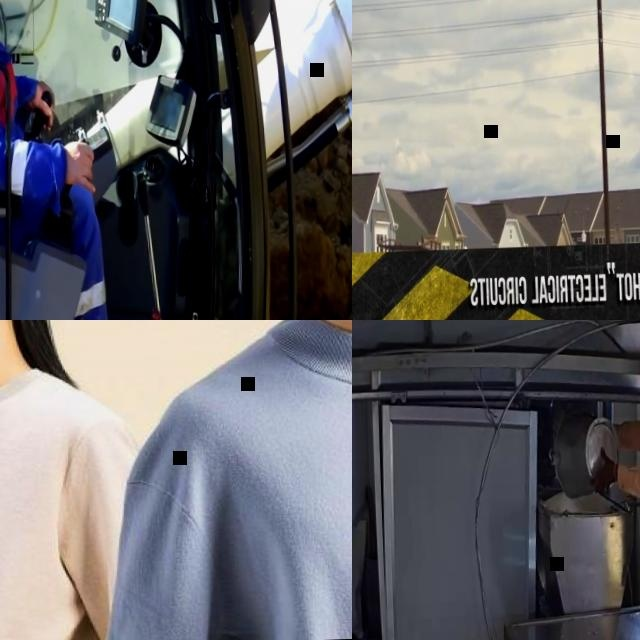NO-Safety Vest: (213, 329, 352, 640), (0, 381, 99, 640)
Person: (84, 320, 352, 640), (0, 320, 151, 640), (0, 0, 111, 320), (585, 320, 640, 640)
Safety Vest: (0, 15, 28, 208)
machinery: (0, 0, 352, 320)
